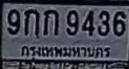3: (97, 10, 110, 36)
4: (81, 9, 95, 36)
6: (112, 10, 126, 36)
9: (7, 8, 20, 35), (66, 9, 79, 36)
A01: (24, 8, 40, 37), (43, 9, 59, 35)
